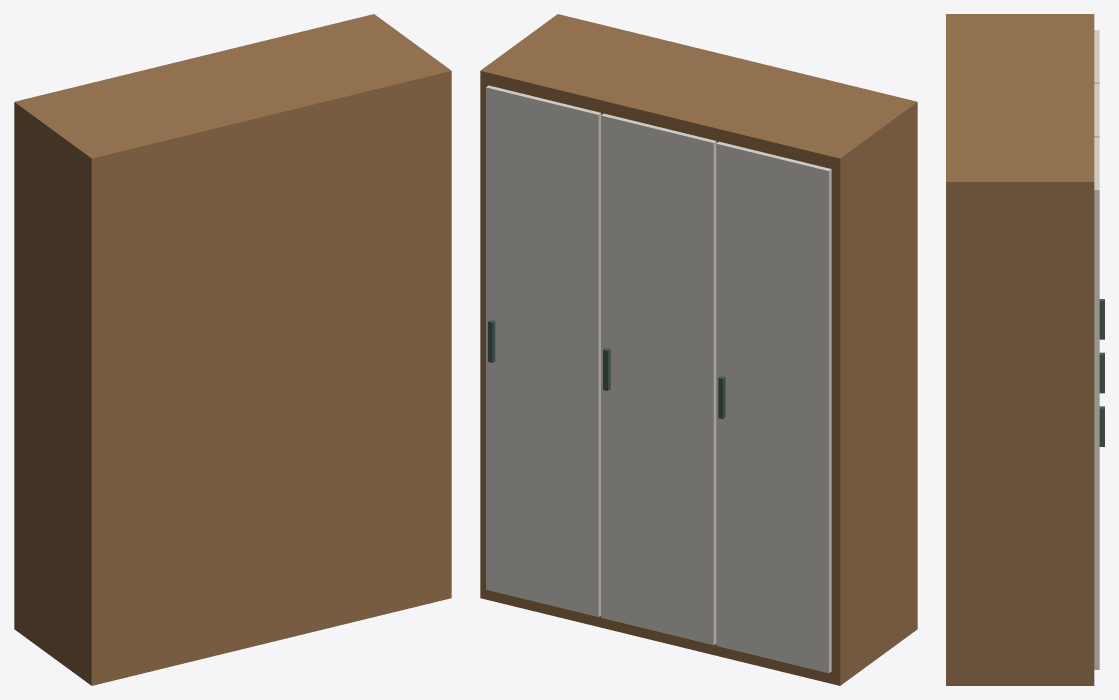
3 renders of one model, left to right at view 1: azimuth 30°, elevation 25°; view 2: azimuth 150°, elevation 25°; view 3: azimuth 270°, elevation 25°, orthographic. The views are drawn at different scales.
Parts seen in each view (by area): view 1: body; view 2: body, door-0, door-1, door-2; view 3: body, door-2, door-1, door-0.
Boxes of the visible parts, x1,y1,x2,y2 form: body: (14, 14, 451, 685); body: (480, 14, 917, 685); door-0: (716, 141, 831, 673); door-1: (601, 113, 716, 645); door-2: (486, 85, 601, 616); body: (946, 14, 1094, 685); door-2: (1094, 137, 1099, 669); door-1: (1094, 83, 1099, 137); door-0: (1094, 30, 1099, 83).
Bounding box in the file's own units: 1.5 × 2.1 × 0.6.
